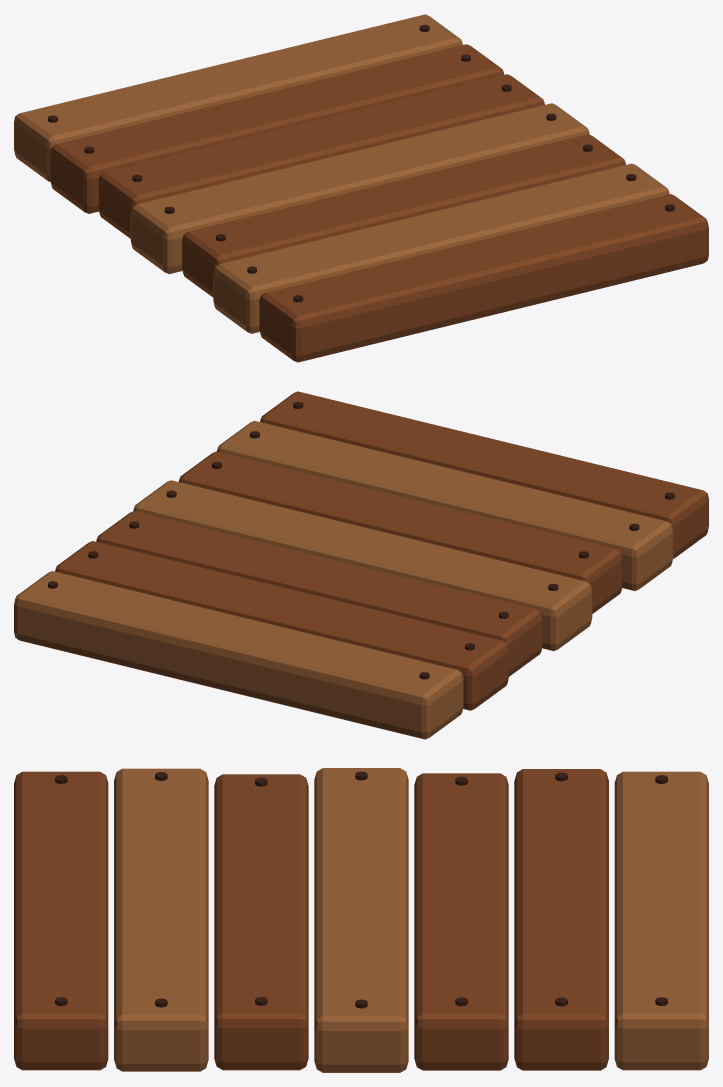
The model's file is WoodenWalkway.glb.
The picture shows the model from 3 angles, top to bottom: view 1: azimuth 30°, elevation 25°; view 2: azimuth 150°, elevation 25°; view 3: azimuth 270°, elevation 25°; orthographic projection. The views are drawn at different scales.
Parts seen in each view (by area): view 1: WoodenWalkway_PlanksWarm, WoodenWalkway_PlanksLight, WoodenWalkway_Pegs; view 2: WoodenWalkway_PlanksWarm, WoodenWalkway_PlanksLight, WoodenWalkway_Pegs; view 3: WoodenWalkway_PlanksWarm, WoodenWalkway_PlanksLight, WoodenWalkway_Pegs.
Part boxes in pixels (x1,y1,x2,y2): WoodenWalkway_PlanksWarm: (50,44,708,362); WoodenWalkway_PlanksLight: (14,14,669,333); WoodenWalkway_Pegs: (48,24,674,302); WoodenWalkway_PlanksWarm: (55,391,708,710); WoodenWalkway_PlanksLight: (14,420,673,739); WoodenWalkway_Pegs: (48,401,674,679); WoodenWalkway_PlanksWarm: (14,769,608,1070); WoodenWalkway_PlanksLight: (114,768,708,1072); WoodenWalkway_Pegs: (55,771,667,1008).
Bounding box in the file's own units: 0.86 × 0.096 × 0.992.
